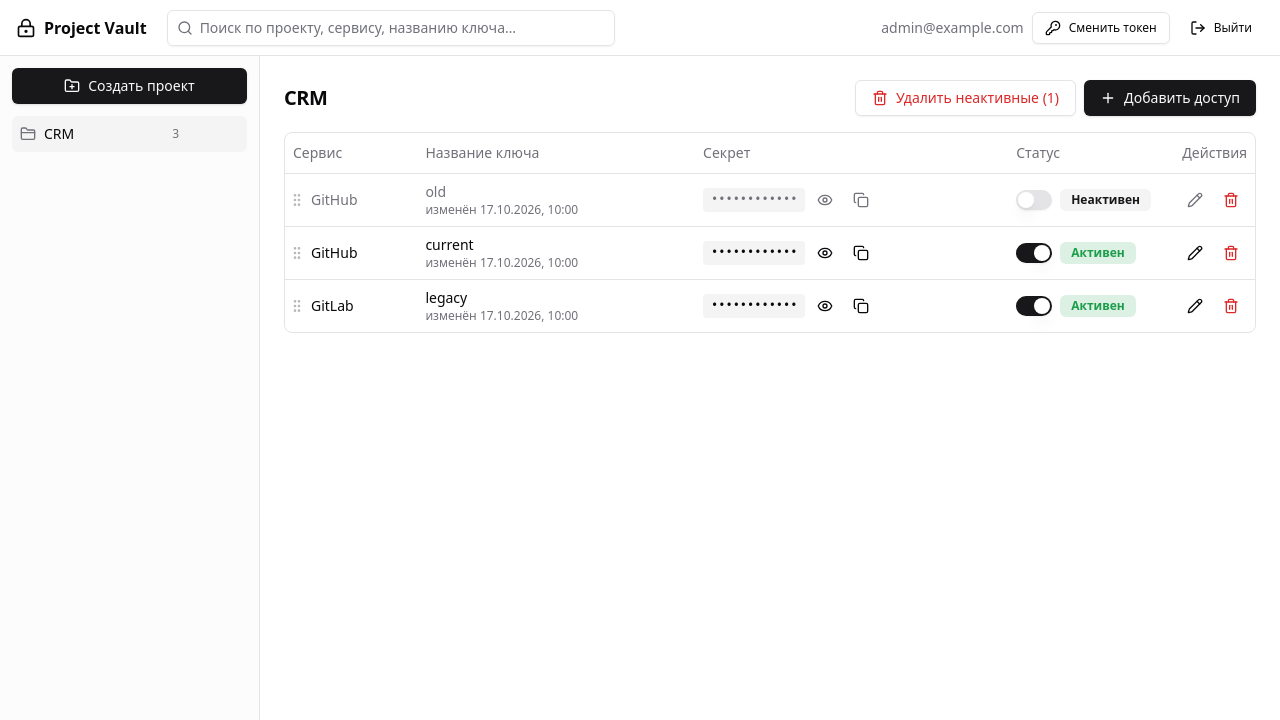
Test case: dashboard › changes status and deletes only inactive records after confirmation
Expected: the button "Создать проект" is shown, [12, 68, 247, 104]
Step 1. Click the switch named "Статус legacy" → click(1034, 306), box [1016, 296, 1052, 316]
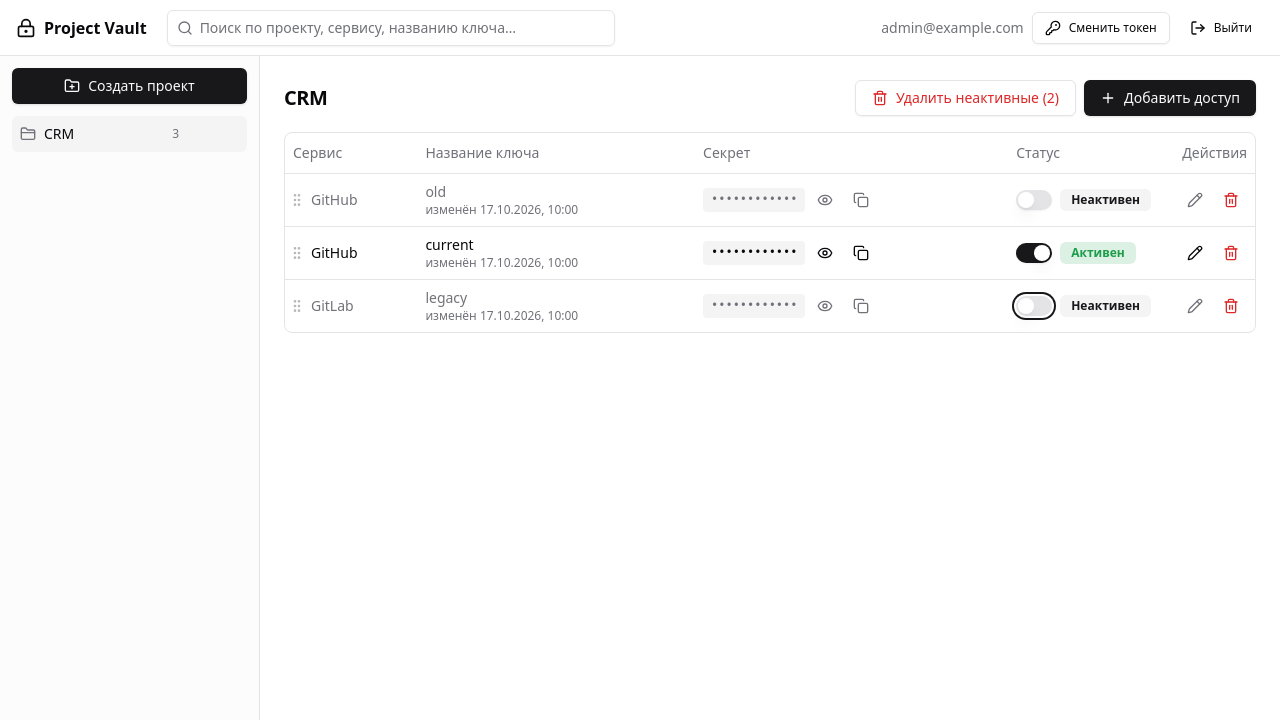
Step 2. Click the button "Удалить неактивные (2)" → click(966, 98), box [855, 80, 1076, 116]
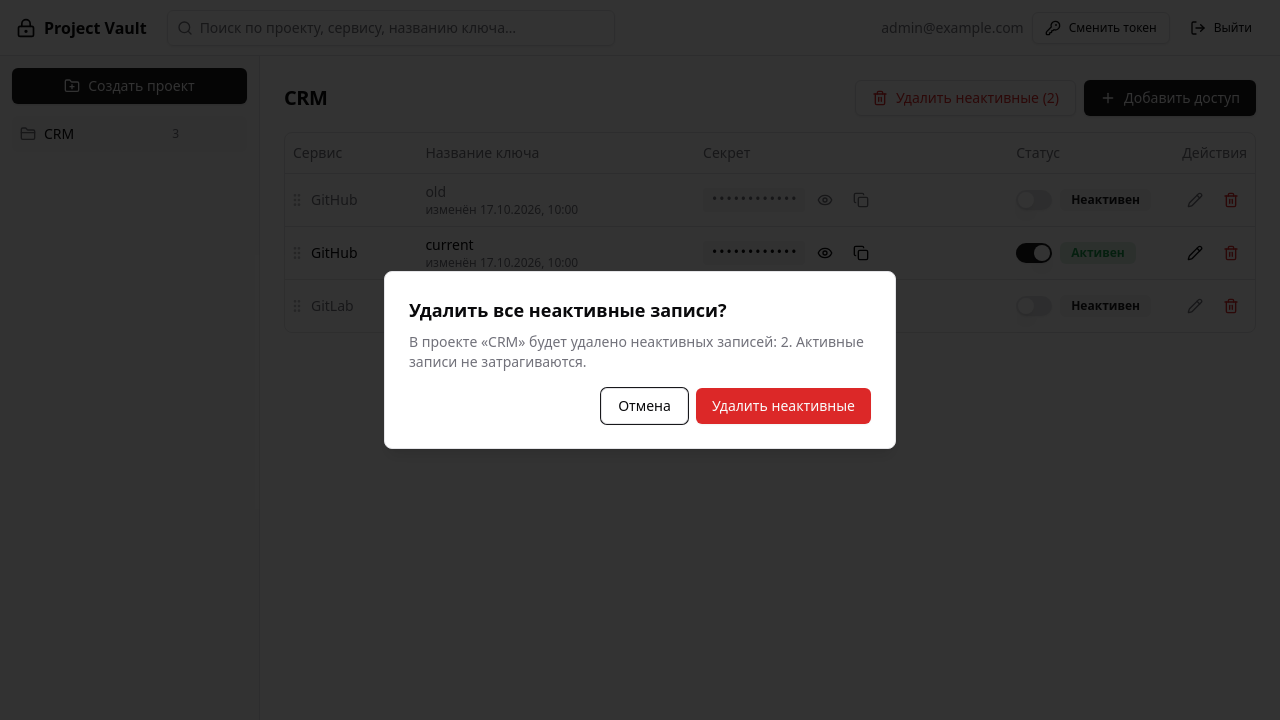
Result: the dialog shows "Активные записи не затрагиваются" at [409, 332, 864, 371]
Step 3. Click the button "Удалить неактивные" → click(783, 406), box [696, 388, 871, 424]
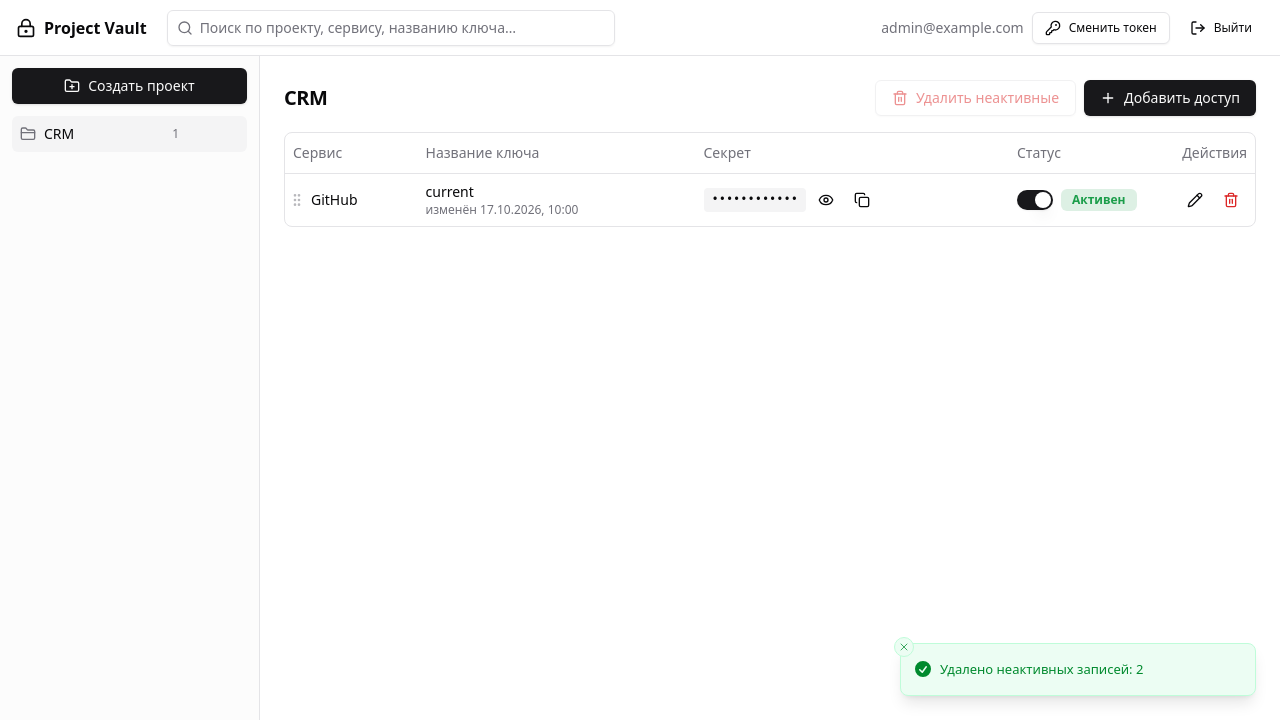
Result: the number of rows is 2 at [285, 133, 1255, 173]; [285, 173, 1255, 226]
